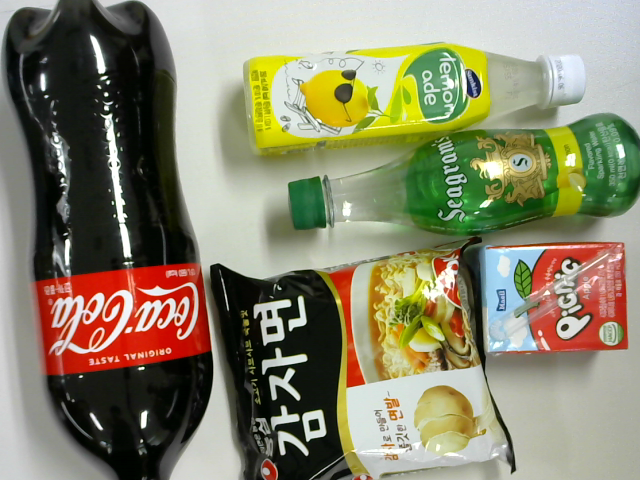Coca_Cola_1.5L: (3, 1, 213, 480)
Picnic_Apple: (477, 240, 633, 362)
Potato: (209, 250, 525, 480)
Seagram_Lemon_Carbonated_Water: (273, 120, 640, 241)
Sunkist_Lemonaid_Pet: (239, 44, 585, 154)
